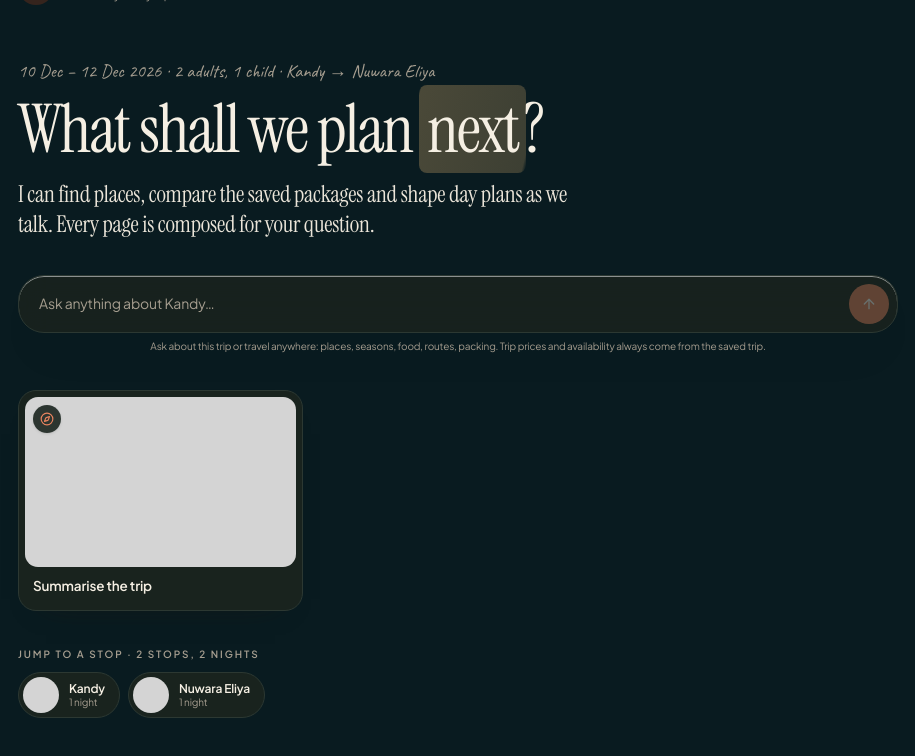
Scenario: PlanningPanel › switches to the standard view when generation is unavailable
This screenshot has width=915, height=756.
Check: the heading "What shall we plan next?" is shown, box [18,85,543,173]
Click the button "Summarise the trip" at (161, 500), box [18,390,303,610]
(page scrolled)
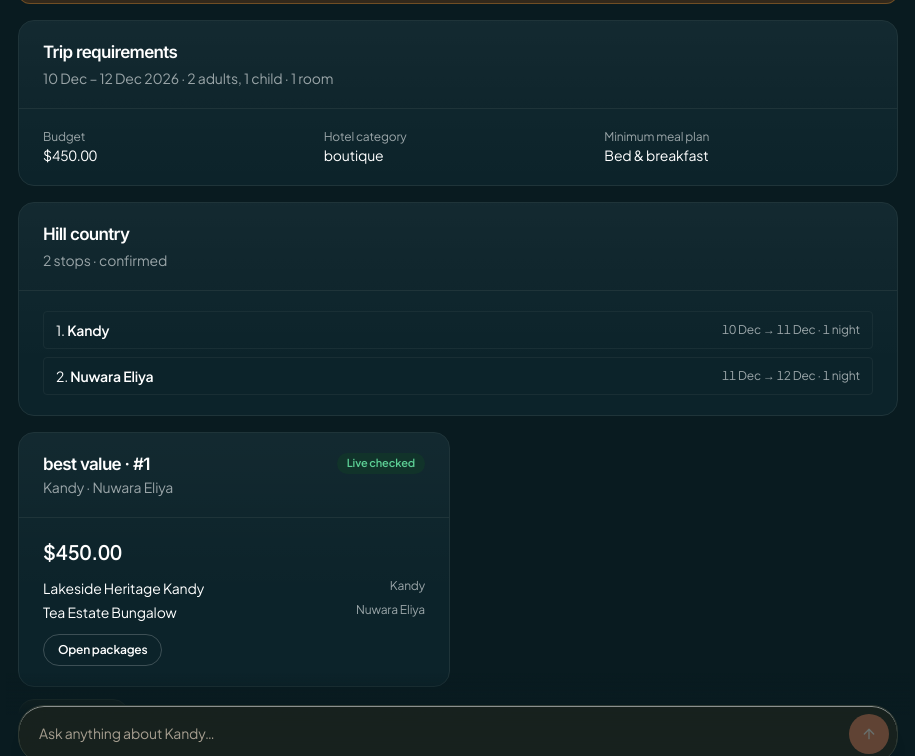
Check: the heading "best value · #1" is shown, box [43,454,150,474]
